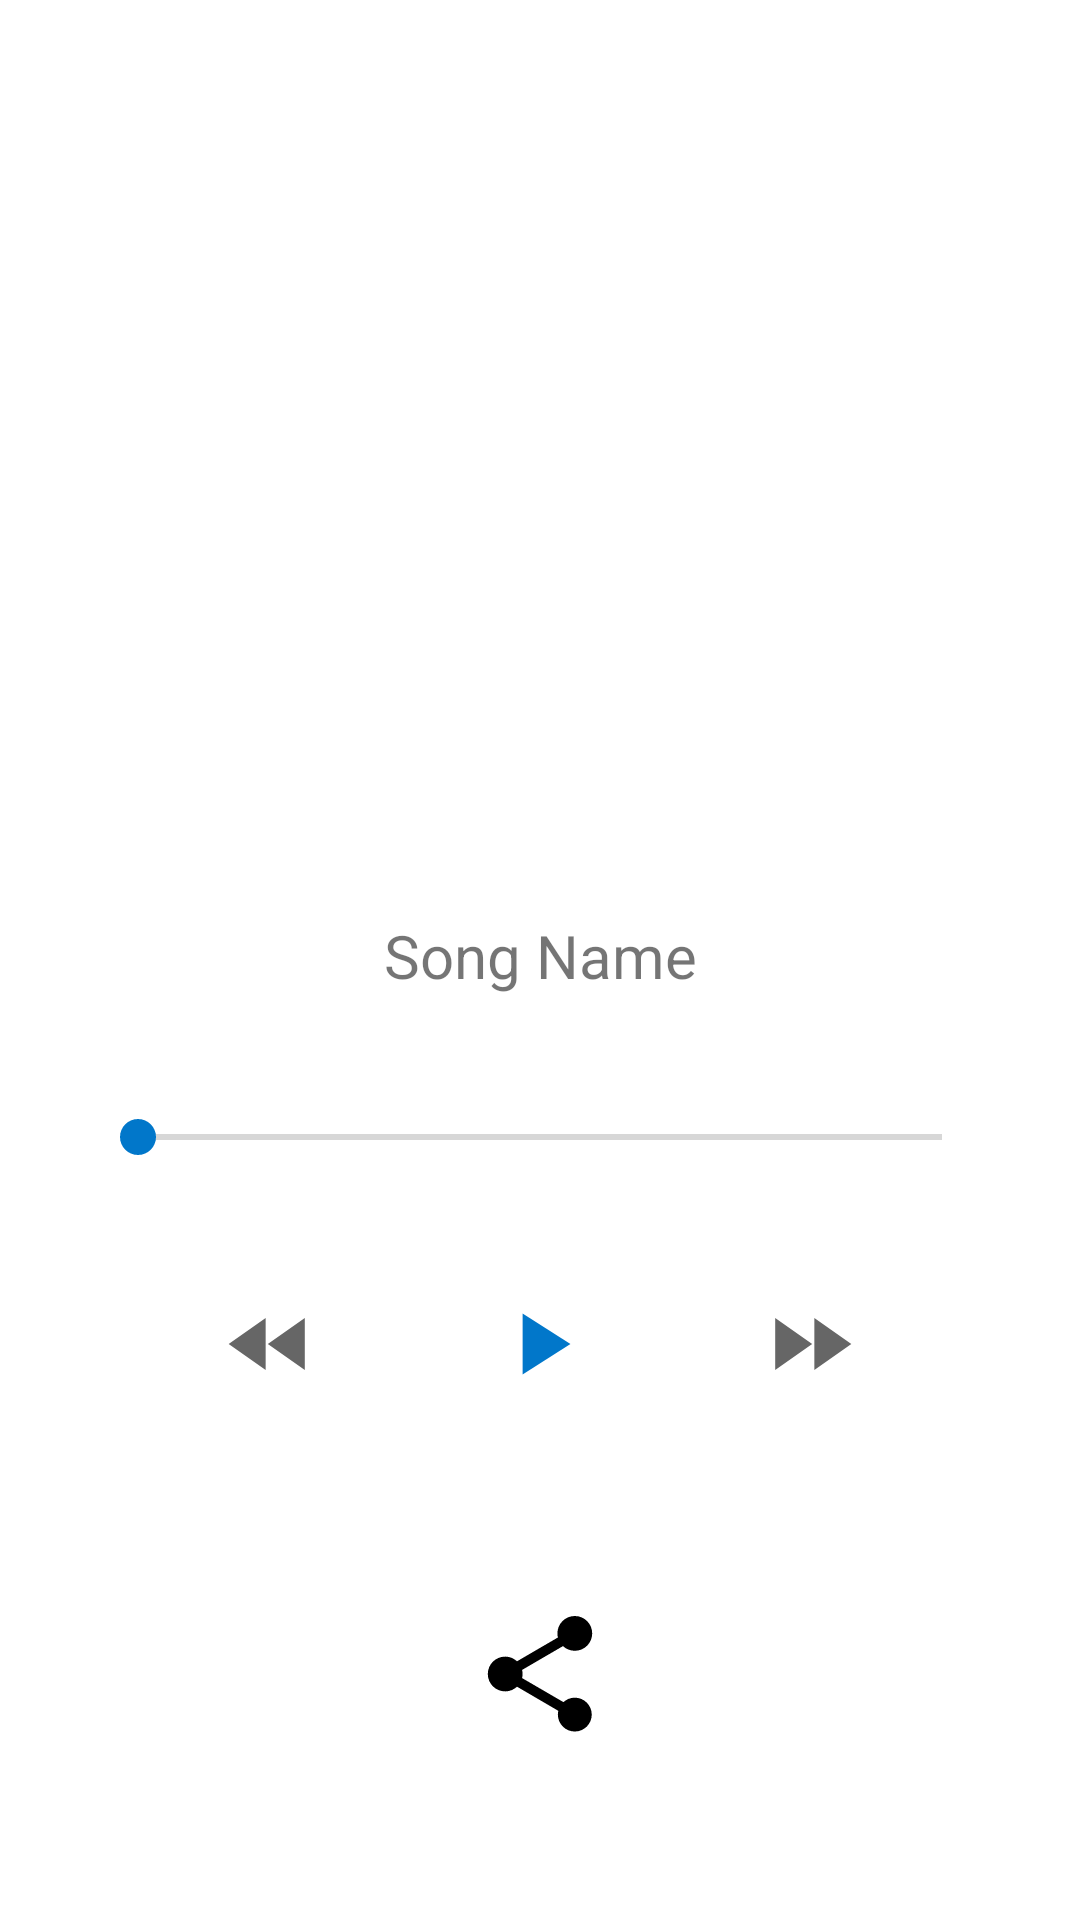

Where icons sit on this 1080x1920 app screen, as {"left": x1, "top": y1, "right": x2, "bottom": y2}:
forward: {"left": 775, "top": 1318, "right": 851, "bottom": 1370}
play: {"left": 522, "top": 1313, "right": 570, "bottom": 1375}
rewind: {"left": 229, "top": 1318, "right": 305, "bottom": 1370}
share: {"left": 487, "top": 1616, "right": 593, "bottom": 1732}
